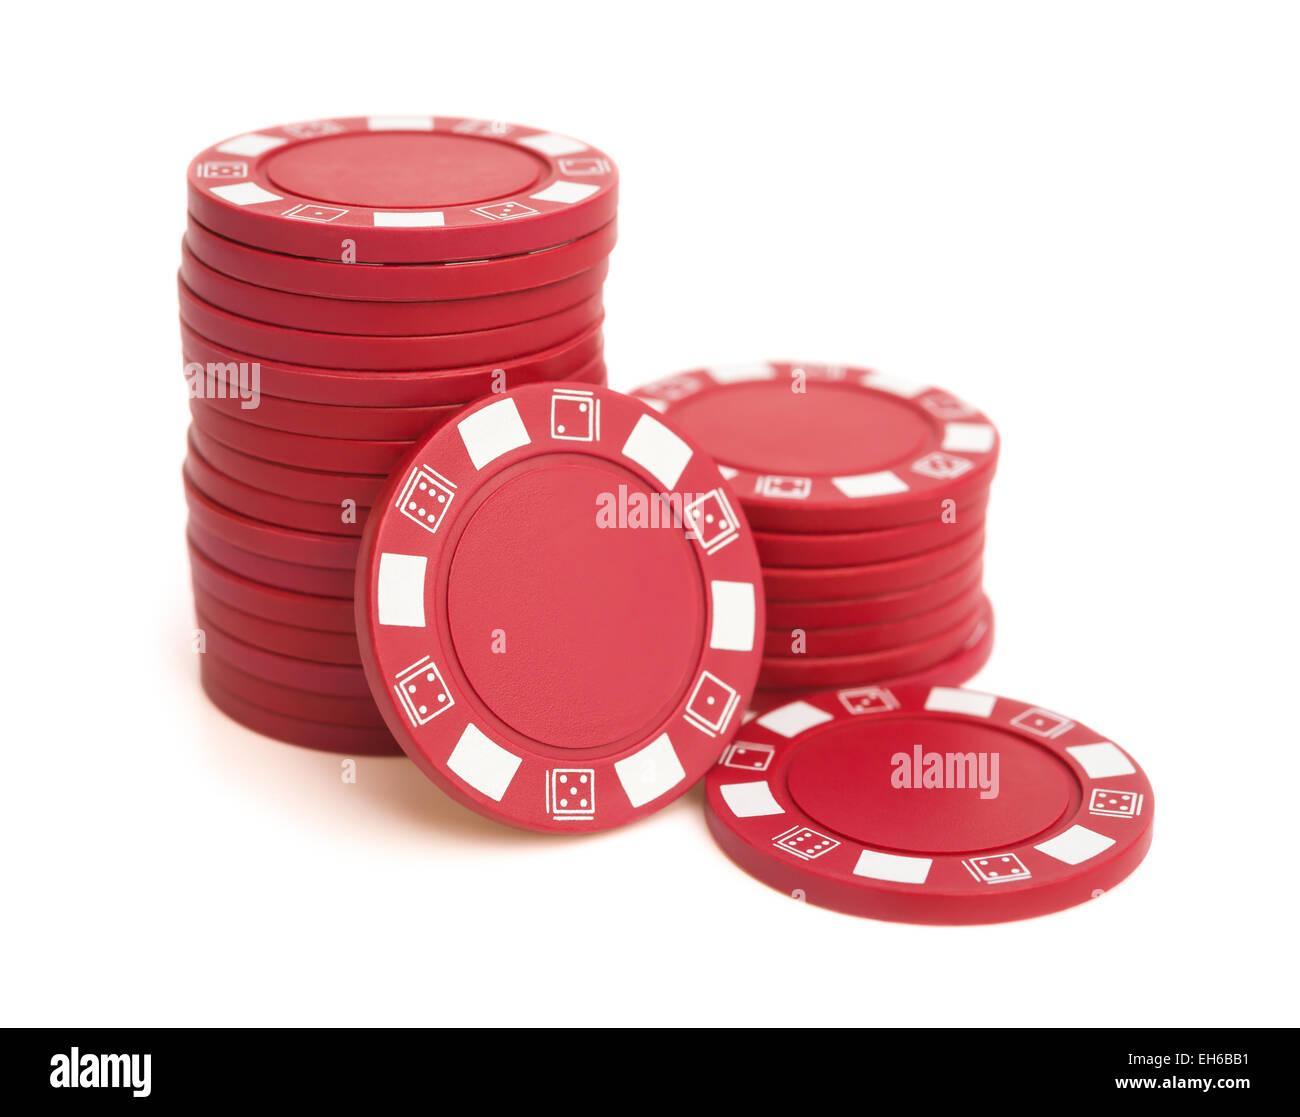chip-red: (356, 380, 764, 833), (706, 686, 1155, 925), (188, 117, 617, 264), (638, 363, 998, 533), (180, 246, 607, 335), (178, 280, 605, 369), (180, 319, 601, 409), (186, 216, 617, 302), (756, 599, 987, 688), (200, 659, 401, 755), (766, 577, 983, 656), (182, 445, 368, 535), (762, 525, 985, 601), (754, 497, 987, 567), (767, 553, 983, 629), (188, 424, 386, 507), (190, 401, 411, 474), (186, 479, 359, 568), (188, 543, 356, 634), (193, 584, 360, 666), (188, 518, 356, 598), (200, 619, 370, 697), (203, 655, 384, 727), (196, 396, 460, 440), (876, 602, 995, 688), (752, 688, 807, 711)
